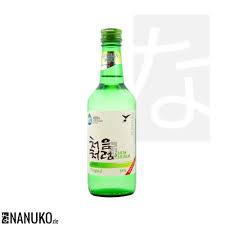soju: (85, 27, 137, 198)
